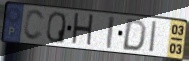C: (22, 8, 46, 42)
D: (120, 18, 148, 52)
H: (70, 11, 95, 49)
I: (149, 20, 159, 55), (106, 15, 115, 50)
Q: (45, 11, 67, 45)
